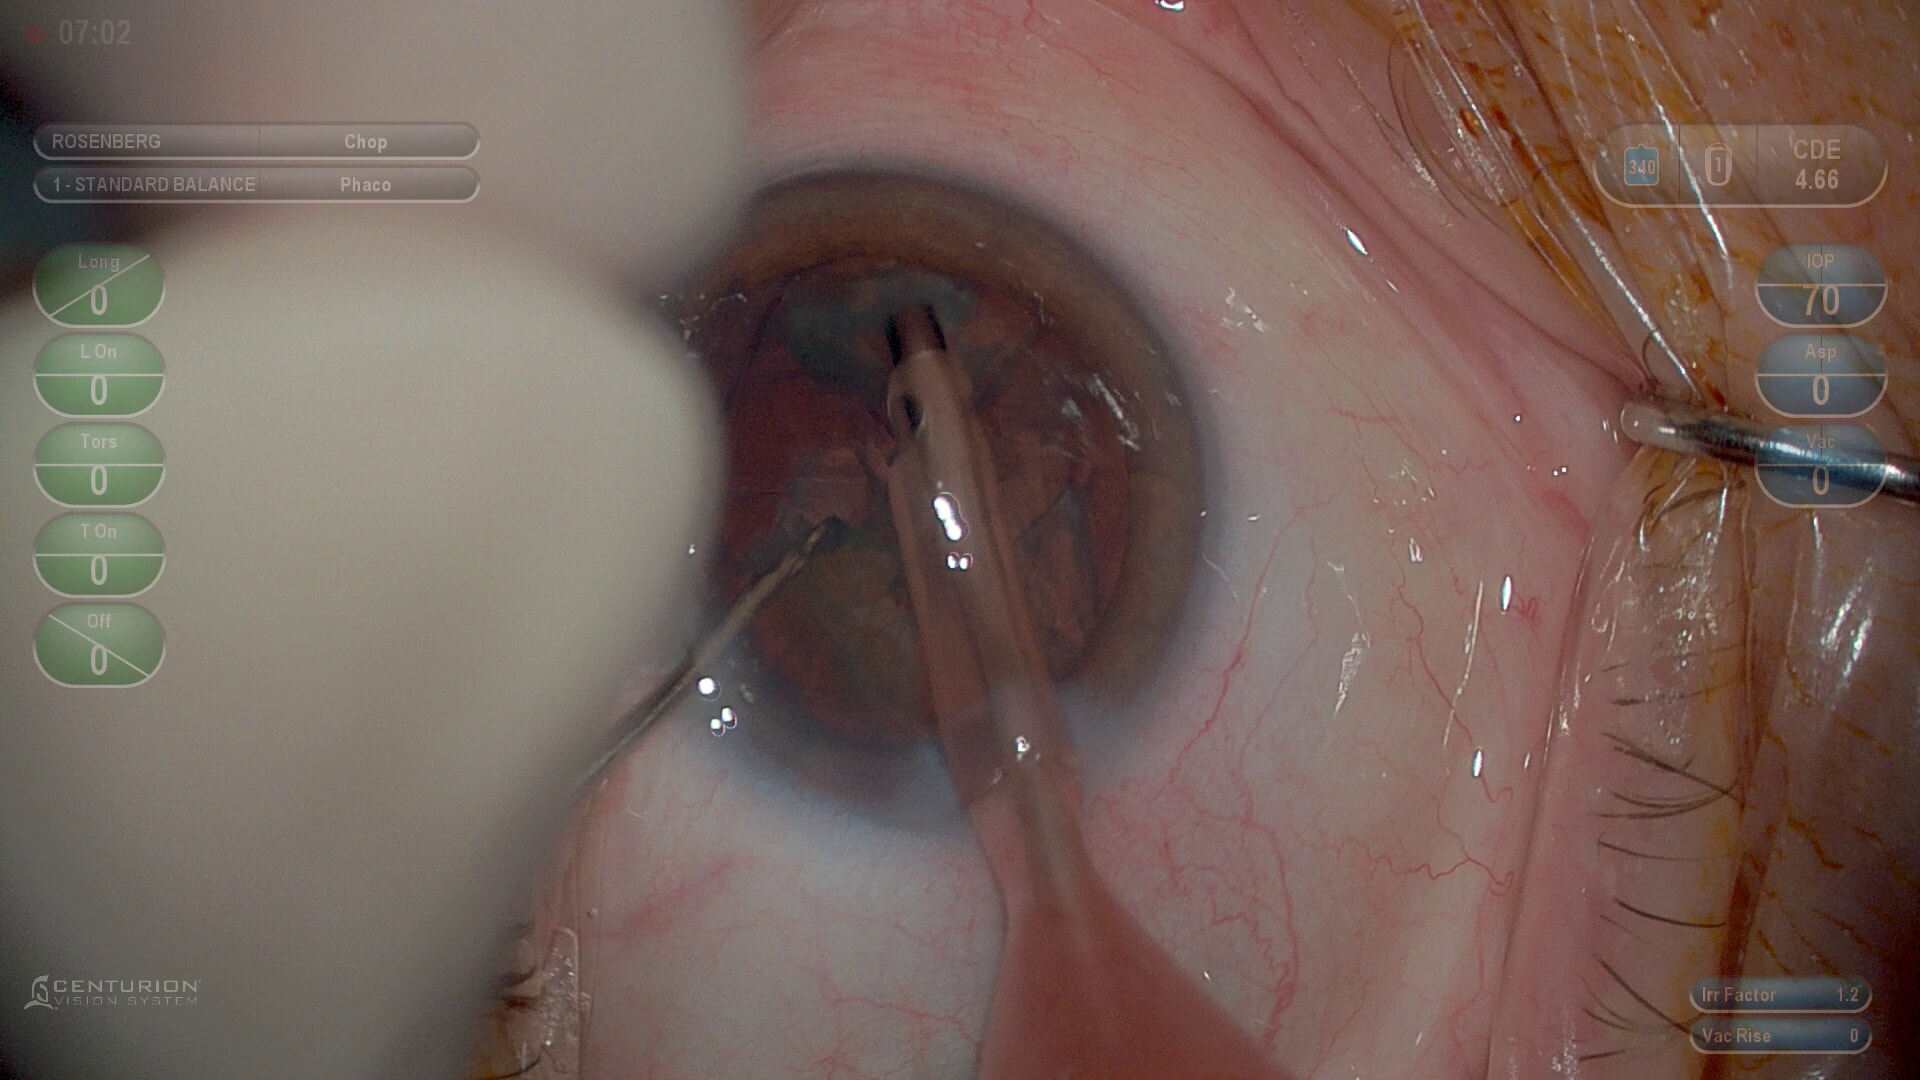iris: (681, 168, 1205, 811)
pupil: (706, 248, 1133, 741)
